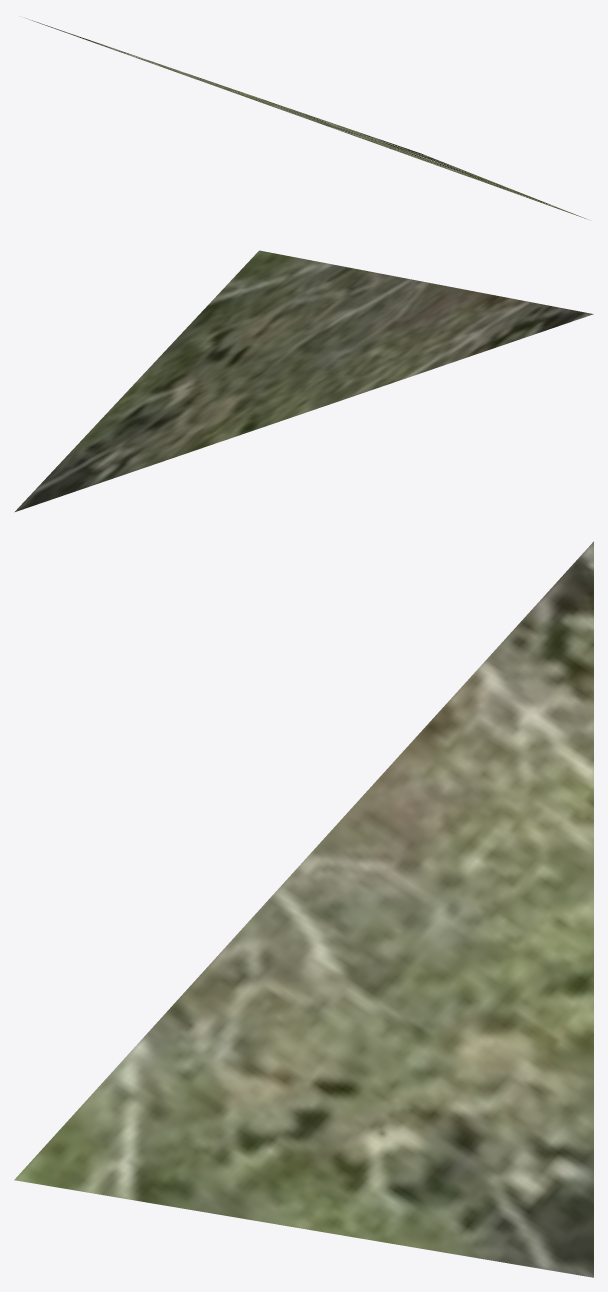
The picture shows the model from 3 angles, top to bottom: view 1: azimuth 30°, elevation 25°; view 2: azimuth 150°, elevation 25°; view 3: azimuth 270°, elevation 25°; orthographic projection. The views are drawn at different scales.
Bounding box in the file's own units: 2.89 × 1.62 × 2.12.
1 material, 1 textured.
